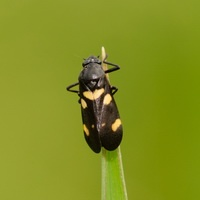insect: (67, 56, 122, 152)
